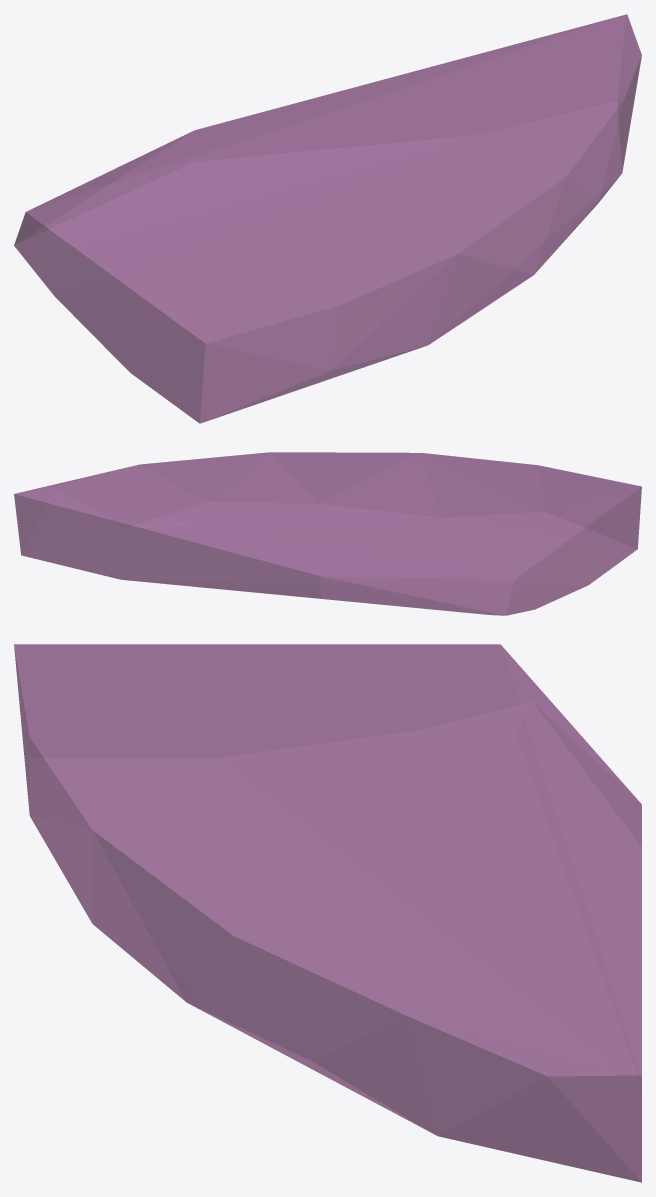
3 views of the same model, one above another, from view 1: azimuth 30°, elevation 25°; view 2: azimuth 150°, elevation 25°; view 3: azimuth 270°, elevation 25° (orthographic). The views are drawn at different scales.
Parts seen in each view (by area): view 1: Shape_IndexedFaceSet.024_Shape_IndexedFaceSet.17599; view 2: Shape_IndexedFaceSet.024_Shape_IndexedFaceSet.17599; view 3: Shape_IndexedFaceSet.024_Shape_IndexedFaceSet.17599.
Boxes of the visible parts, x1=… form: Shape_IndexedFaceSet.024_Shape_IndexedFaceSet.17599: x1=14, y1=14, x2=641, y2=423; Shape_IndexedFaceSet.024_Shape_IndexedFaceSet.17599: x1=14, y1=452, x2=641, y2=615; Shape_IndexedFaceSet.024_Shape_IndexedFaceSet.17599: x1=14, y1=644, x2=641, y2=1182.
Size of the model in its own units: 0.1145 by 0.0141 by 0.0705.
